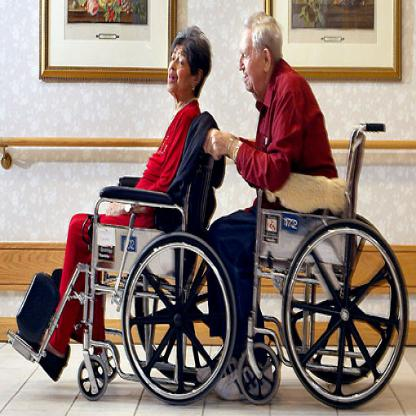wheelchair: (16, 25, 238, 402), (219, 11, 411, 410)
